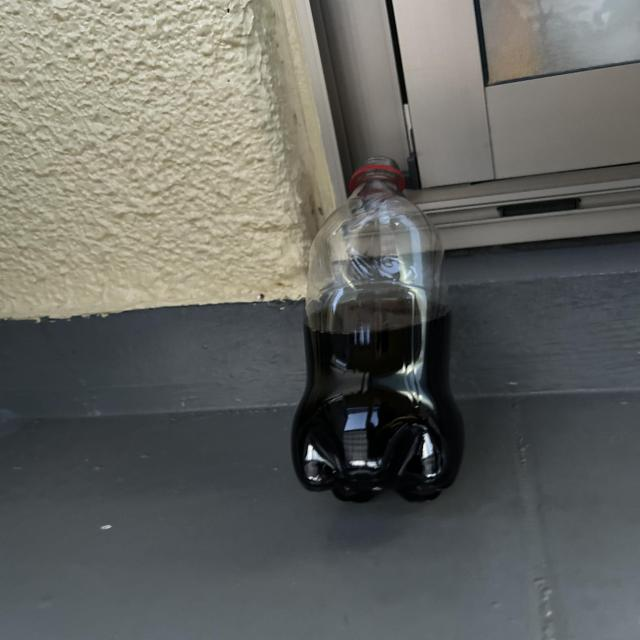medium: (291, 158, 463, 502)
